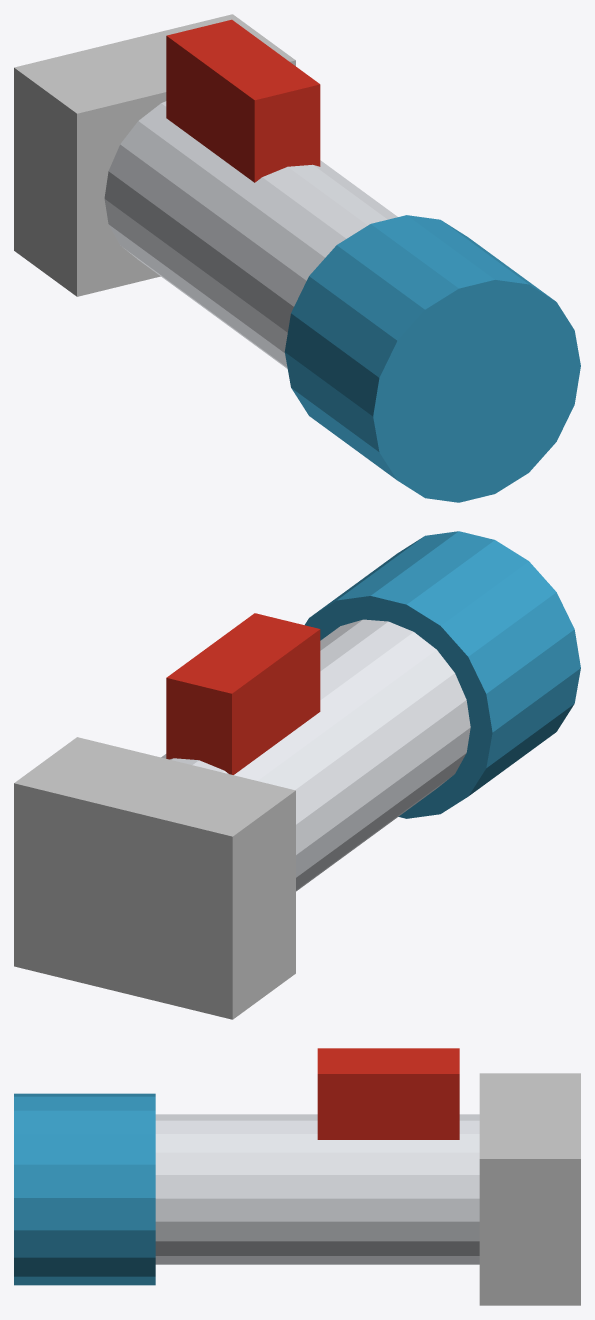
The model's file is laser_head_component.obj.
3 views of the same model, one above another, from view 1: azimuth 30°, elevation 25°; view 2: azimuth 150°, elevation 25°; view 3: azimuth 270°, elevation 25° (orthographic). The views are drawn at different scales.
Parts seen in each view (by area): view 1: laser_head_component; view 2: laser_head_component; view 3: laser_head_component.
Boxes of the visible parts, x1,y1,x2,y2 form: laser_head_component: (14, 14, 580, 502); laser_head_component: (14, 531, 580, 1019); laser_head_component: (14, 1048, 580, 1305).
Bounding box in the file's own units: 0.2 × 0.2336 × 0.56.
